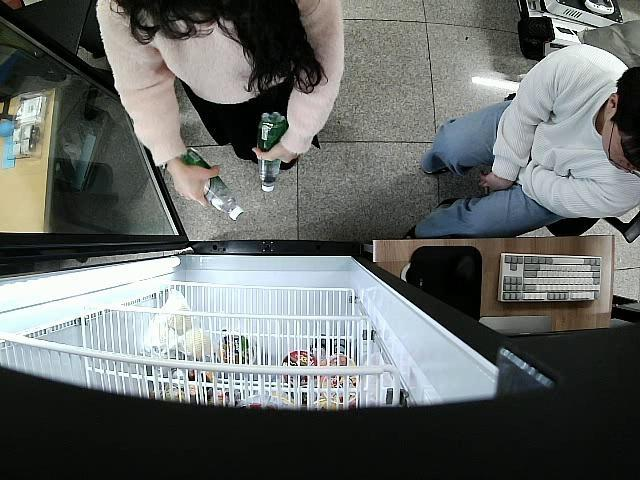18_trevi: (183, 149, 244, 220), (258, 114, 288, 193)
